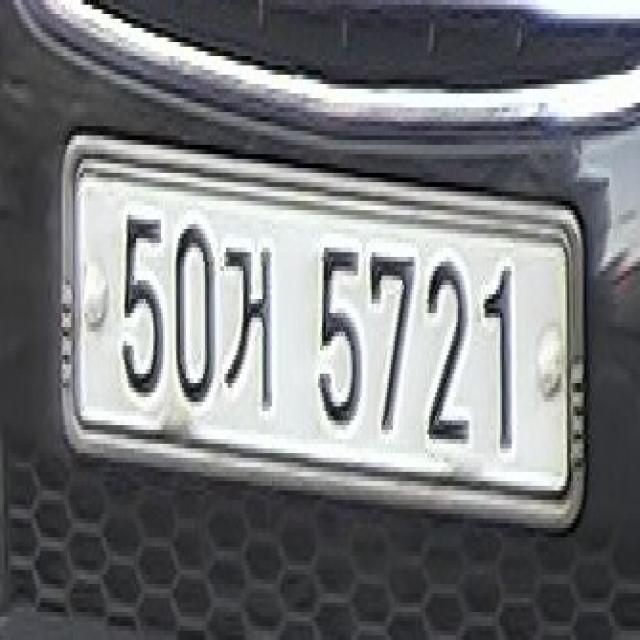0: (172, 212, 219, 414)
1: (484, 263, 520, 458)
2: (424, 260, 474, 450)
5: (116, 202, 170, 400), (314, 238, 364, 442)
7: (371, 239, 421, 442)
geo: (222, 228, 282, 427)
license_plate: (57, 153, 591, 533)
